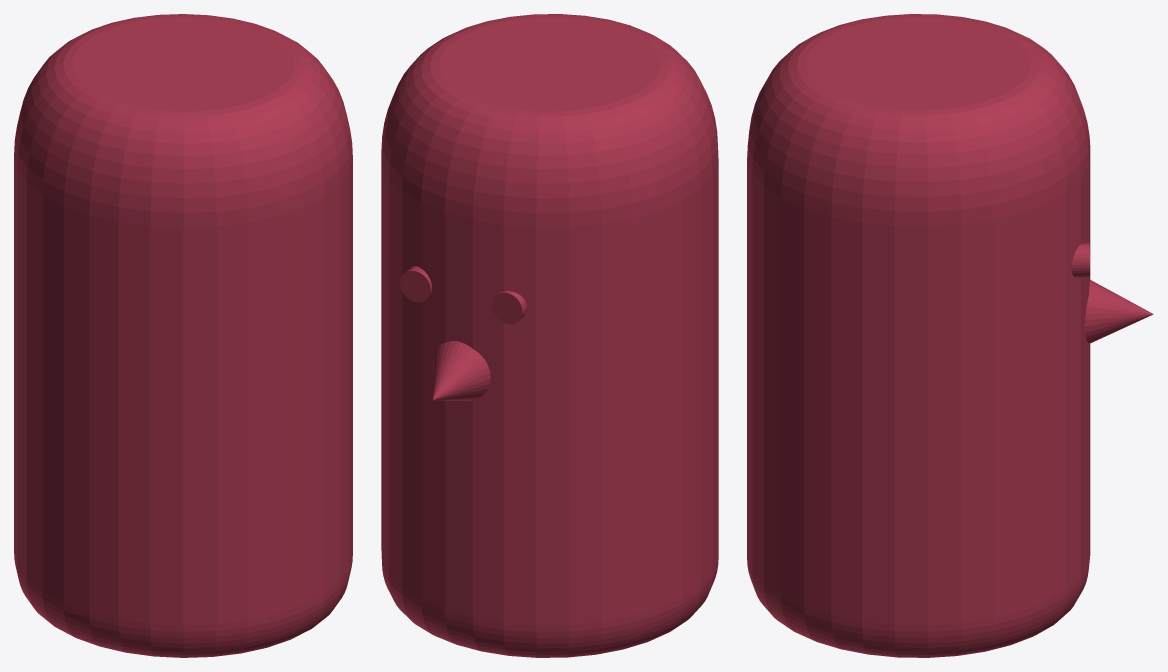
The model's file is ud_default_character.glb.
3 renders of one model, left to right at view 1: azimuth 30°, elevation 25°; view 2: azimuth 150°, elevation 25°; view 3: azimuth 270°, elevation 25°, orthographic.
Visible parts, largest first — view 1: udcharacter; view 2: udcharacter; view 3: udcharacter.
Part boxes in pixels (<box>): udcharacter: <box>14,14,352,657</box>; udcharacter: <box>381,14,718,657</box>; udcharacter: <box>747,14,1153,657</box>.
Bounding box in the file's own units: 0.9539 × 1.66 × 1.15.
